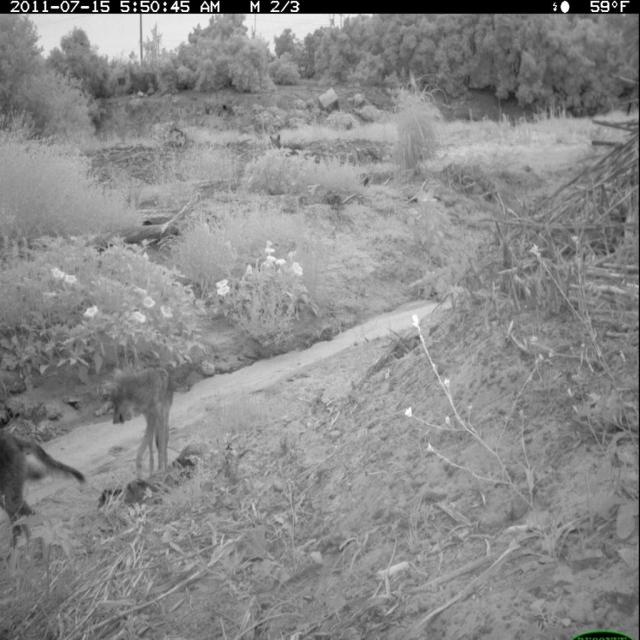coyote: (3, 426, 90, 567), (105, 361, 183, 484)
